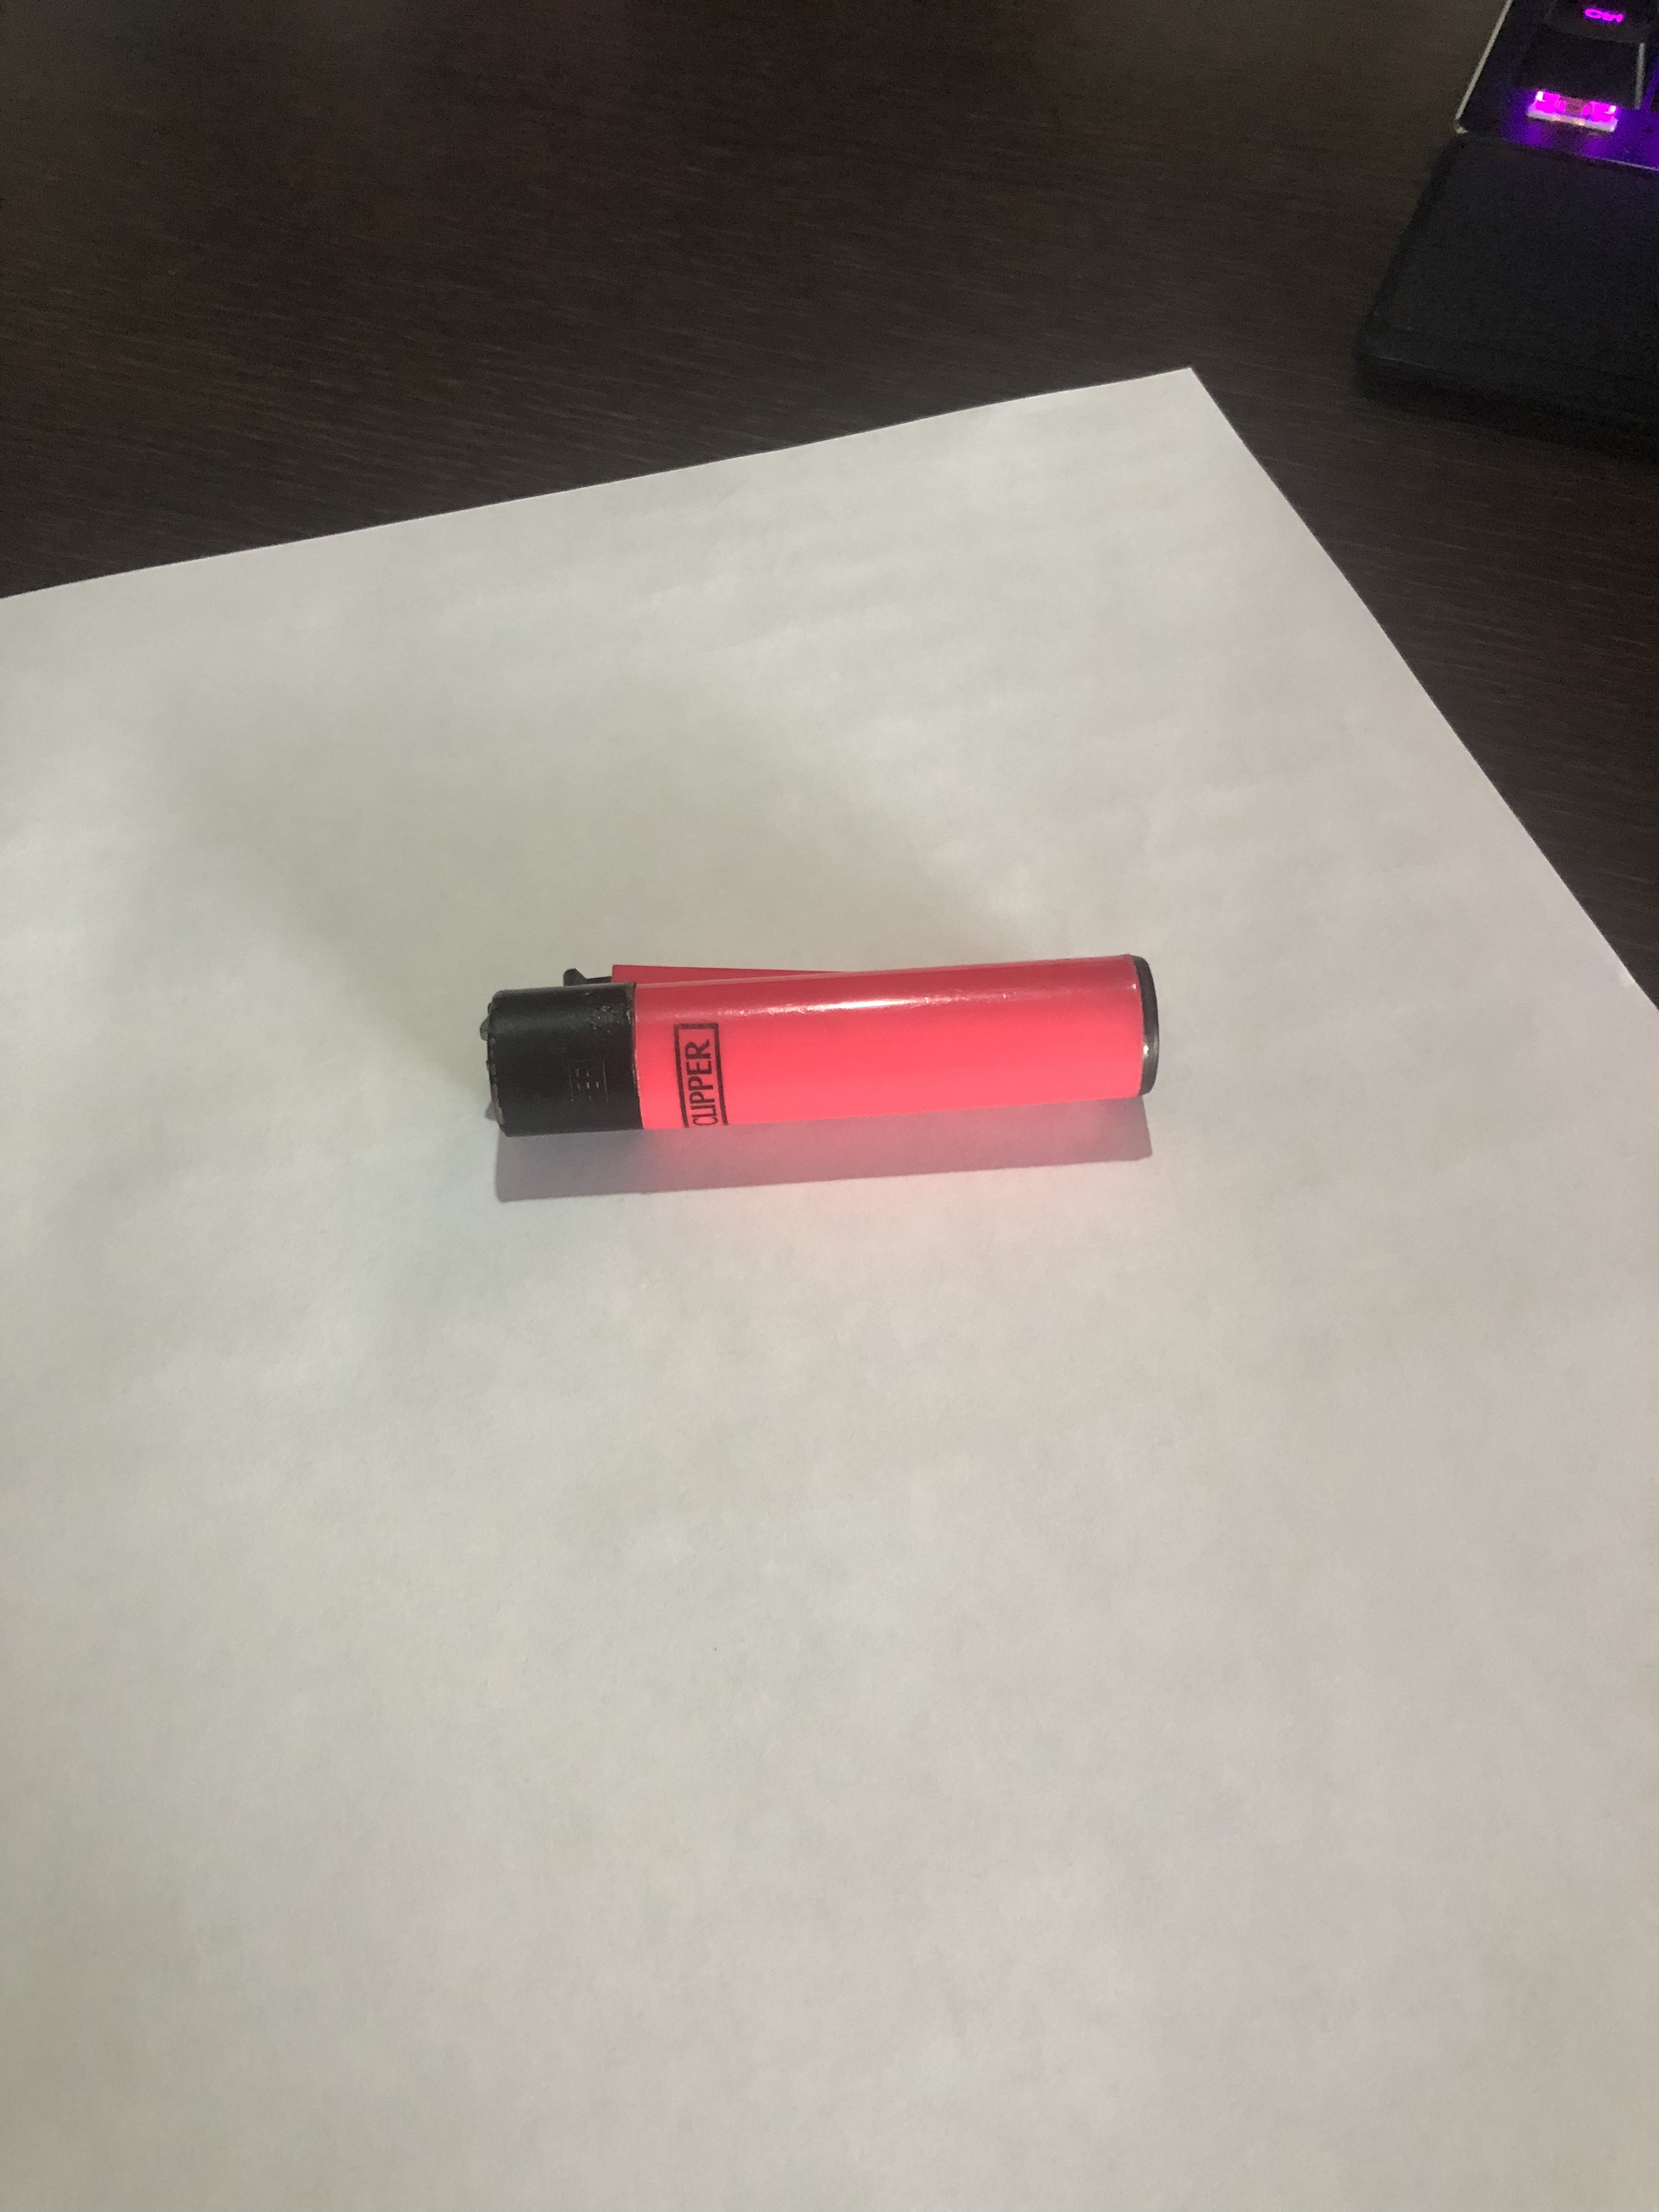Mechero: (443, 956, 1199, 1157)
